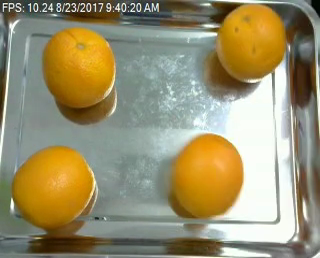Orange: (10, 146, 95, 227), (168, 133, 244, 219), (41, 27, 114, 108), (215, 3, 286, 84)
